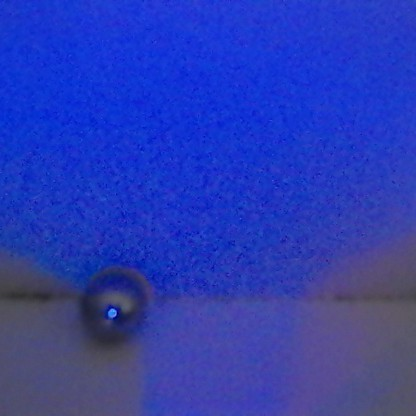ironball: (75, 263, 152, 345)
